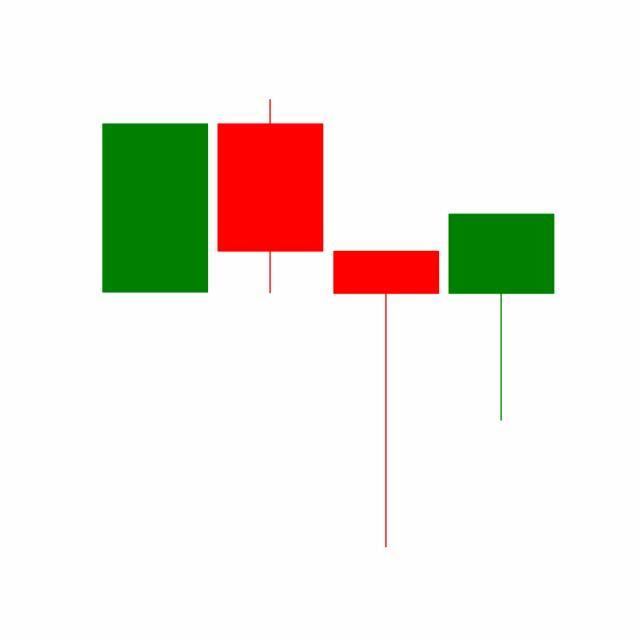Hammer: (329, 248, 445, 552)
